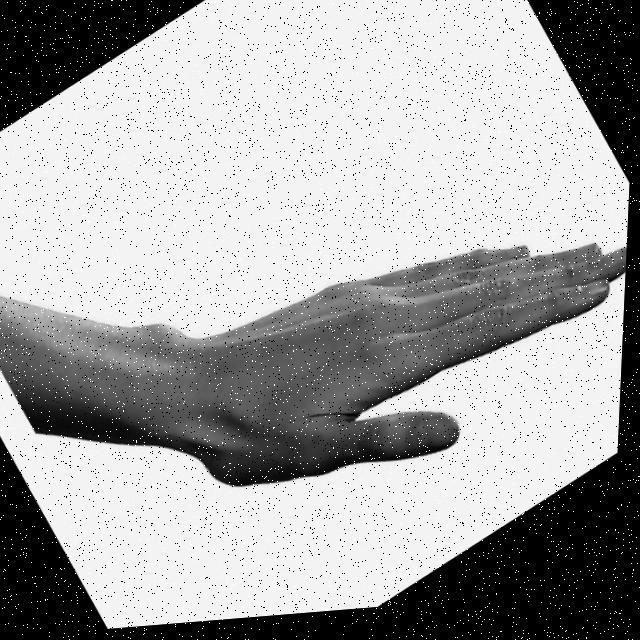no-gloves: (152, 120, 634, 581)
